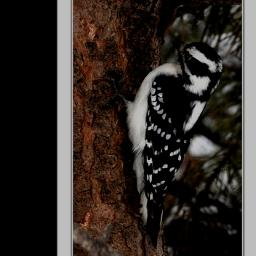Woodpecker: (107, 42, 223, 255)
